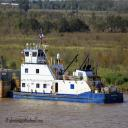tugboat: (8, 31, 126, 107)
